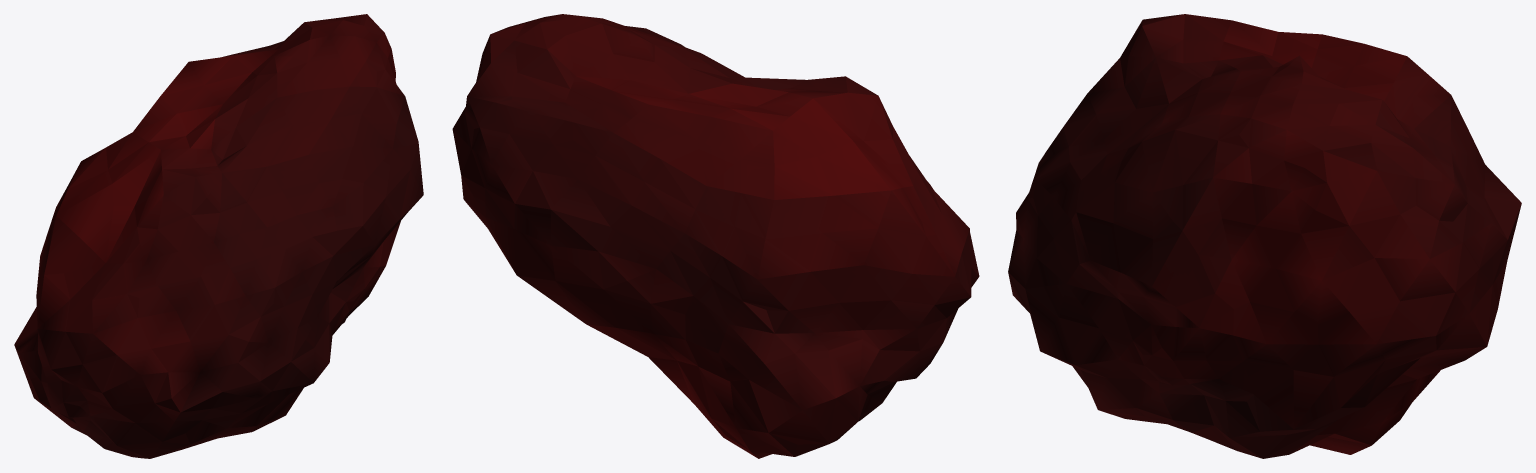
Rendered from geology-rocks-asteroidhuge_v5.fbx.
3 views of the same model, side by side, from view 1: azimuth 30°, elevation 25°; view 2: azimuth 150°, elevation 25°; view 3: azimuth 270°, elevation 25° (orthographic). The views are drawn at different scales.
Parts seen in each view (by area): view 1: AsteroidHuge_v5; view 2: AsteroidHuge_v5; view 3: AsteroidHuge_v5.
Boxes of the visible parts, x1,y1,x2,y2 form: AsteroidHuge_v5: (14, 14, 423, 458); AsteroidHuge_v5: (452, 14, 979, 458); AsteroidHuge_v5: (1008, 14, 1521, 458).
Bounding box in the file's own units: 2.21 × 1.89 × 1.78.
